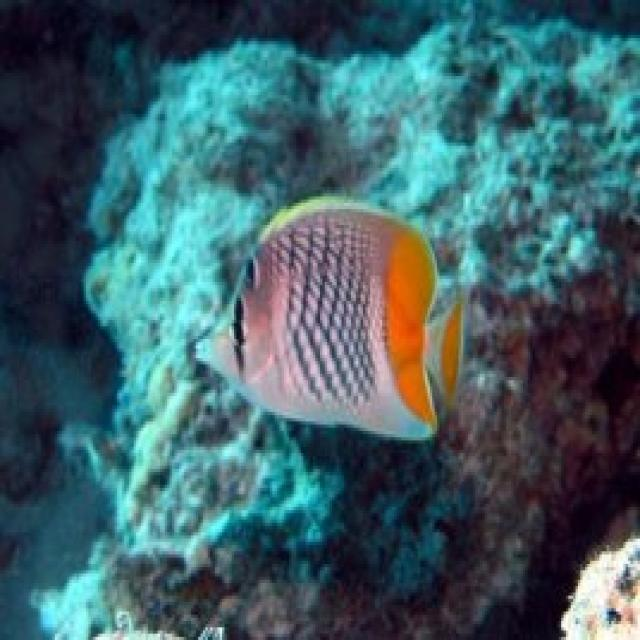ButterflyFish: (192, 195, 468, 444)
